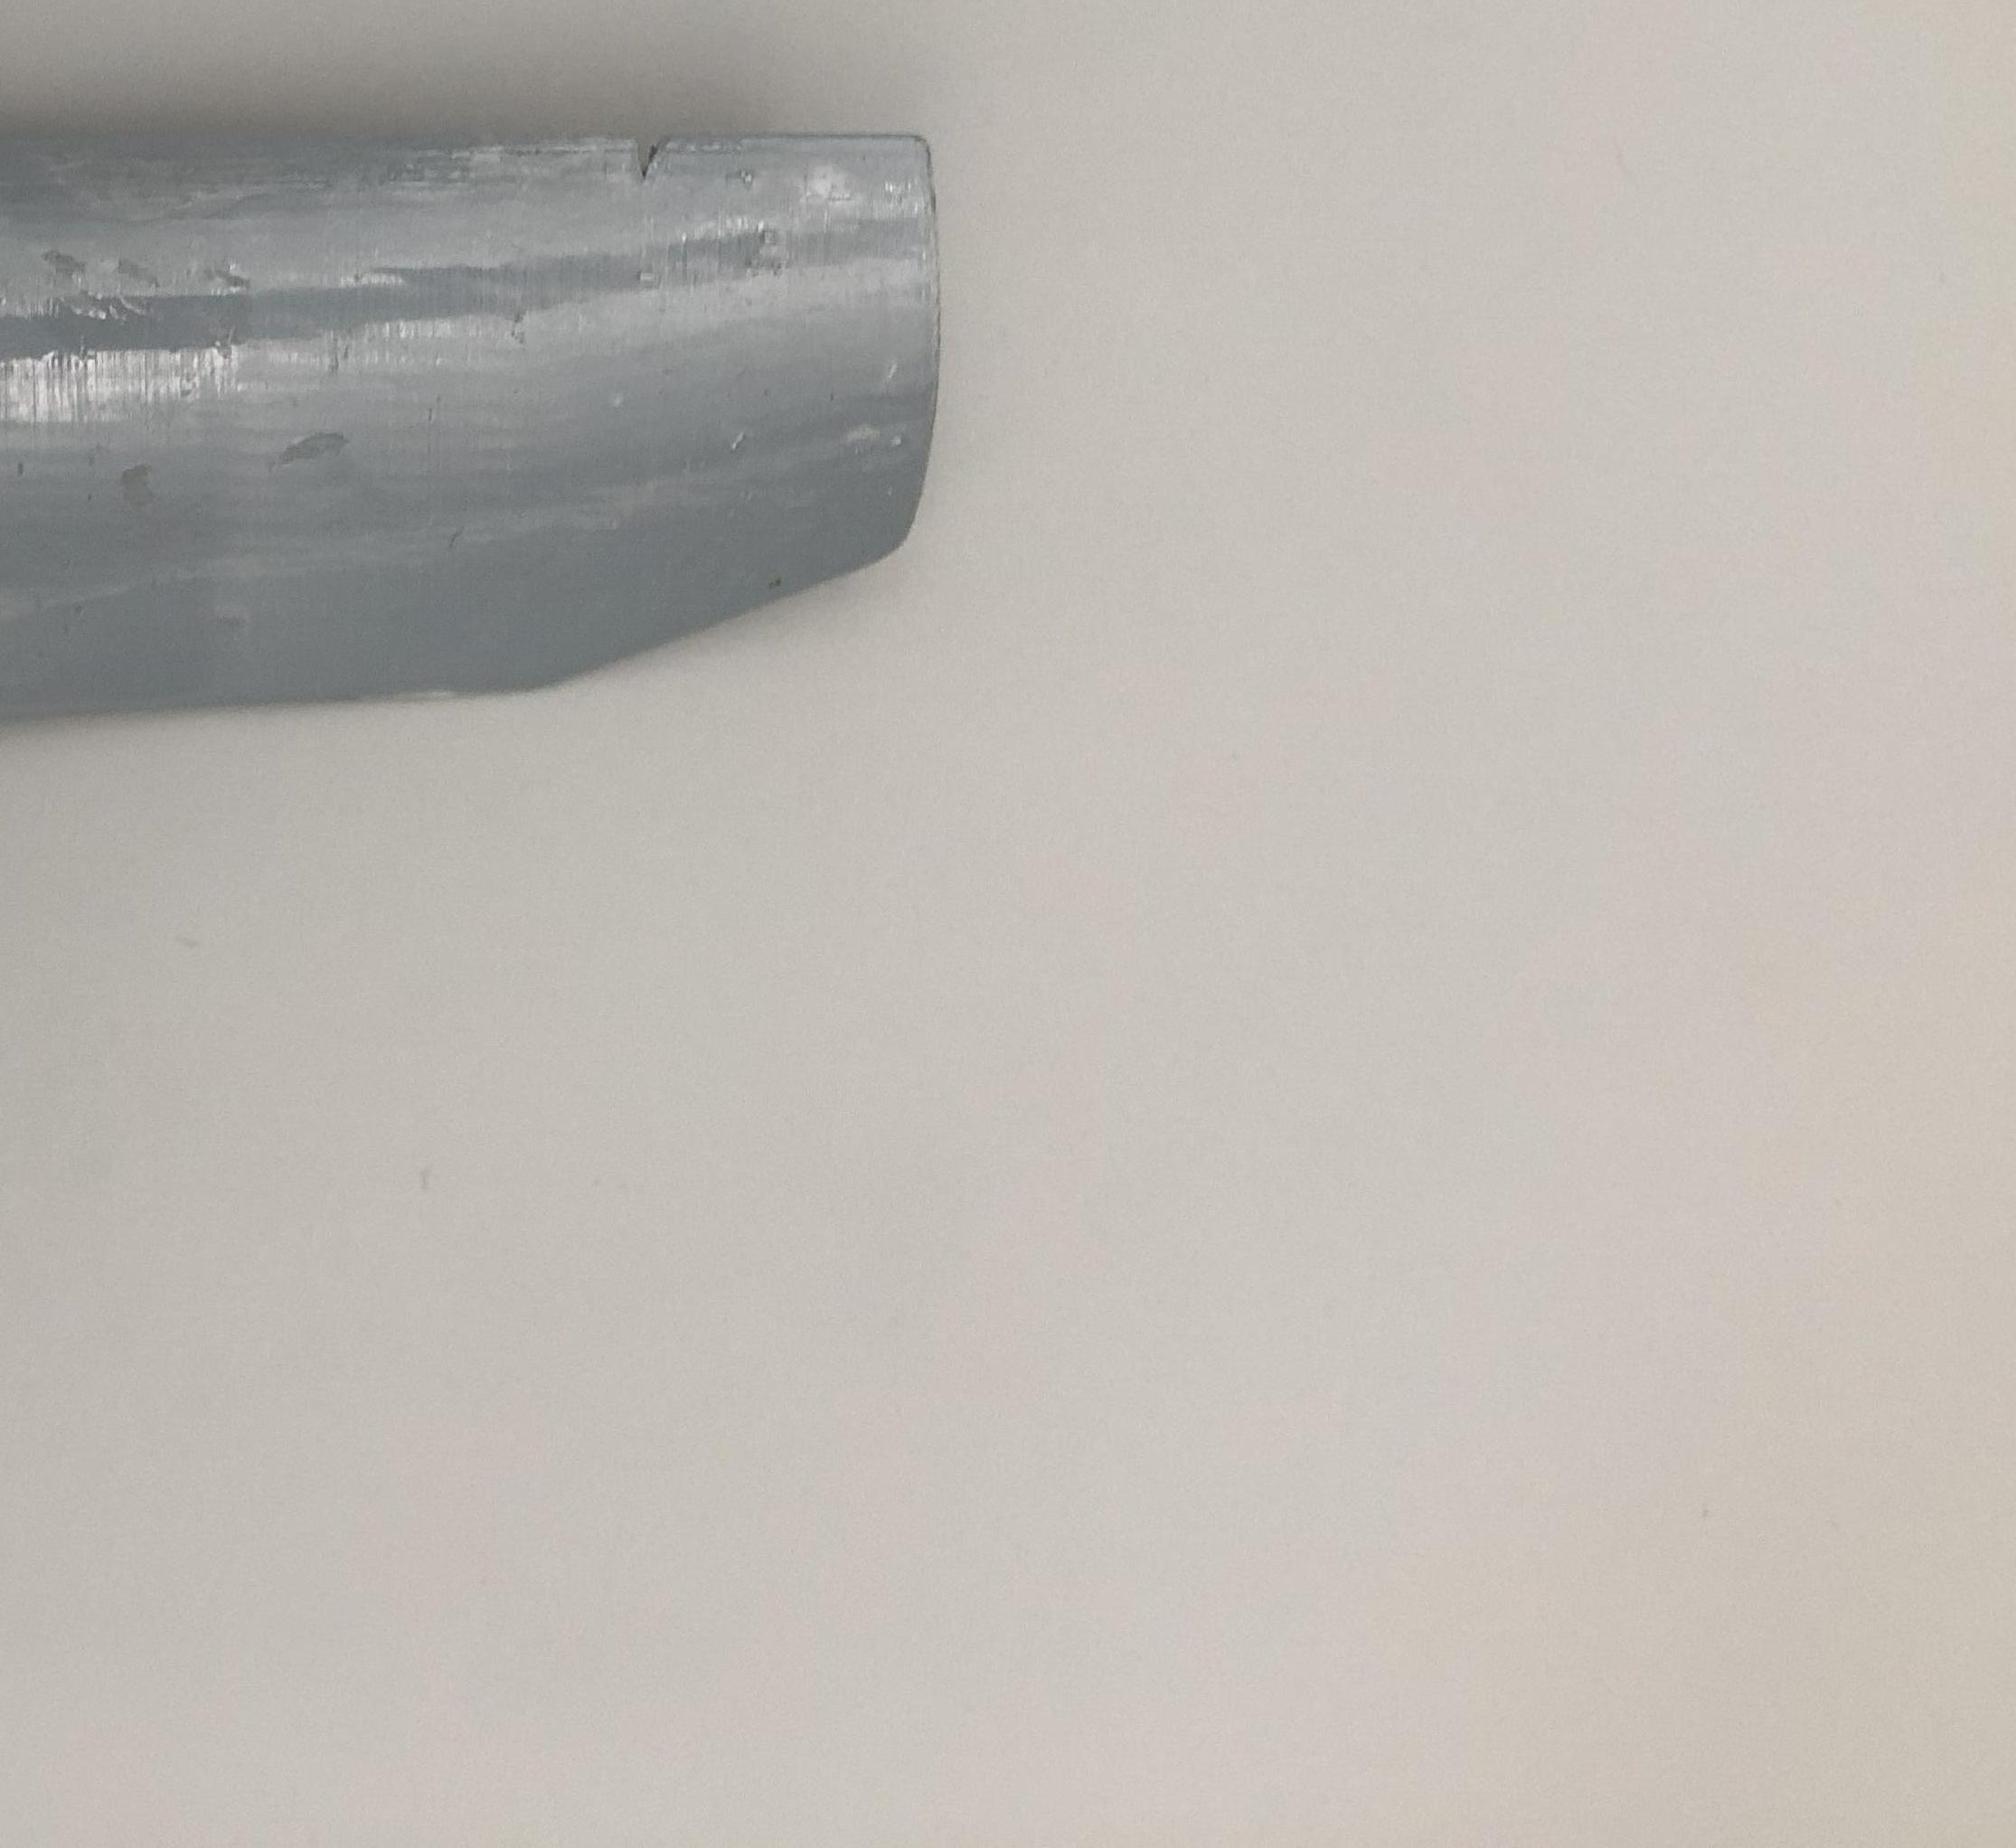groove: (611, 137, 699, 186)
